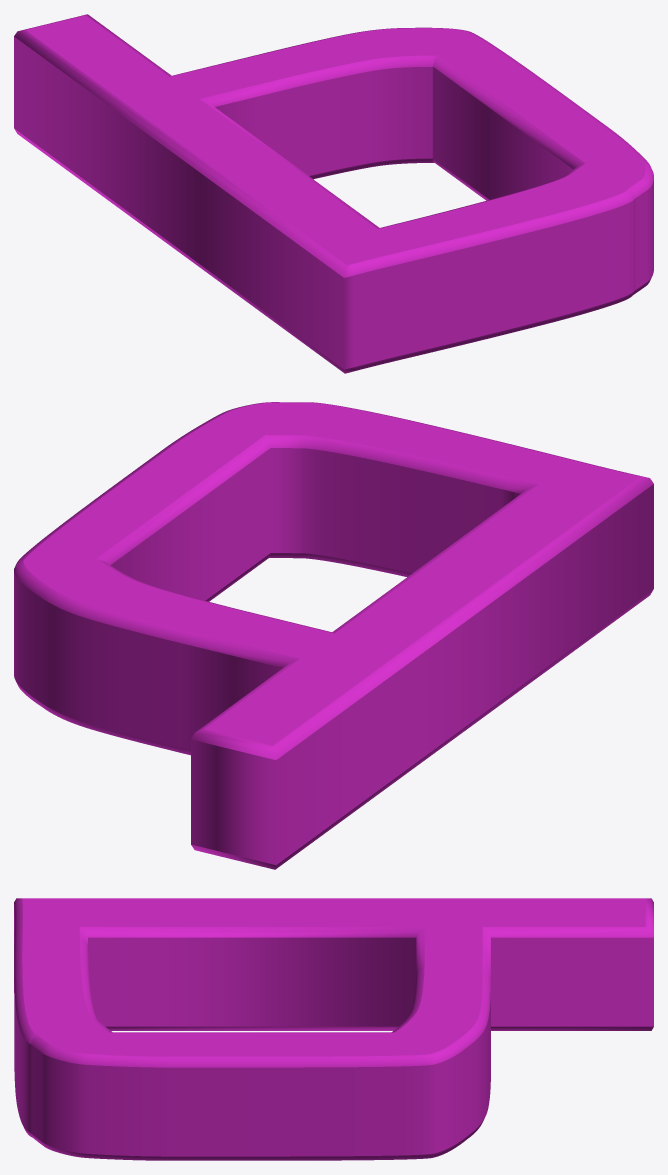
The model's file is Letter_q_CoolFont.fbx.
3 views of the same model, one above another, from view 1: azimuth 30°, elevation 25°; view 2: azimuth 150°, elevation 25°; view 3: azimuth 270°, elevation 25° (orthographic). The views are drawn at different scales.
Parts seen in each view (by area): view 1: Letter_q; view 2: Letter_q; view 3: Letter_q.
Boxes of the visible parts, box(x1,y1,x2,y2) form: Letter_q: box(14, 14, 653, 373); Letter_q: box(14, 402, 653, 869); Letter_q: box(14, 898, 653, 1160).
Bounding box in the file's own units: 0.4777 × 0.14 × 0.7824.
